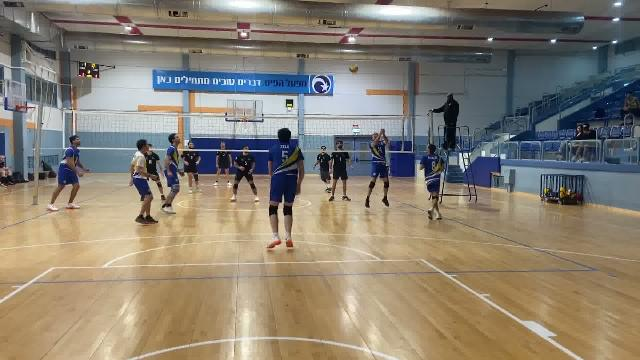ball: (347, 63, 359, 74)
